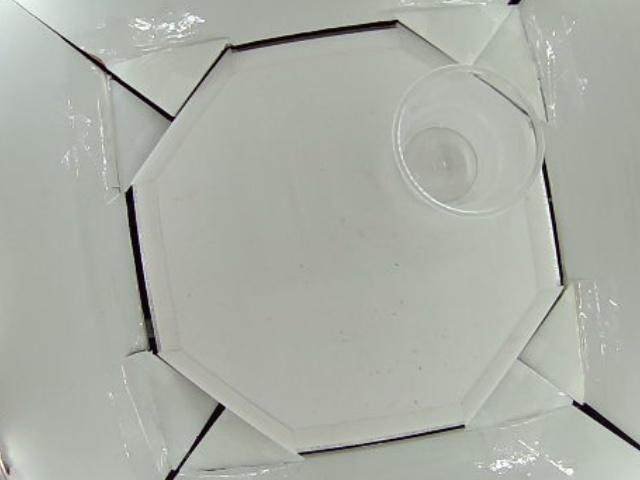Cup: (389, 61, 545, 219)
